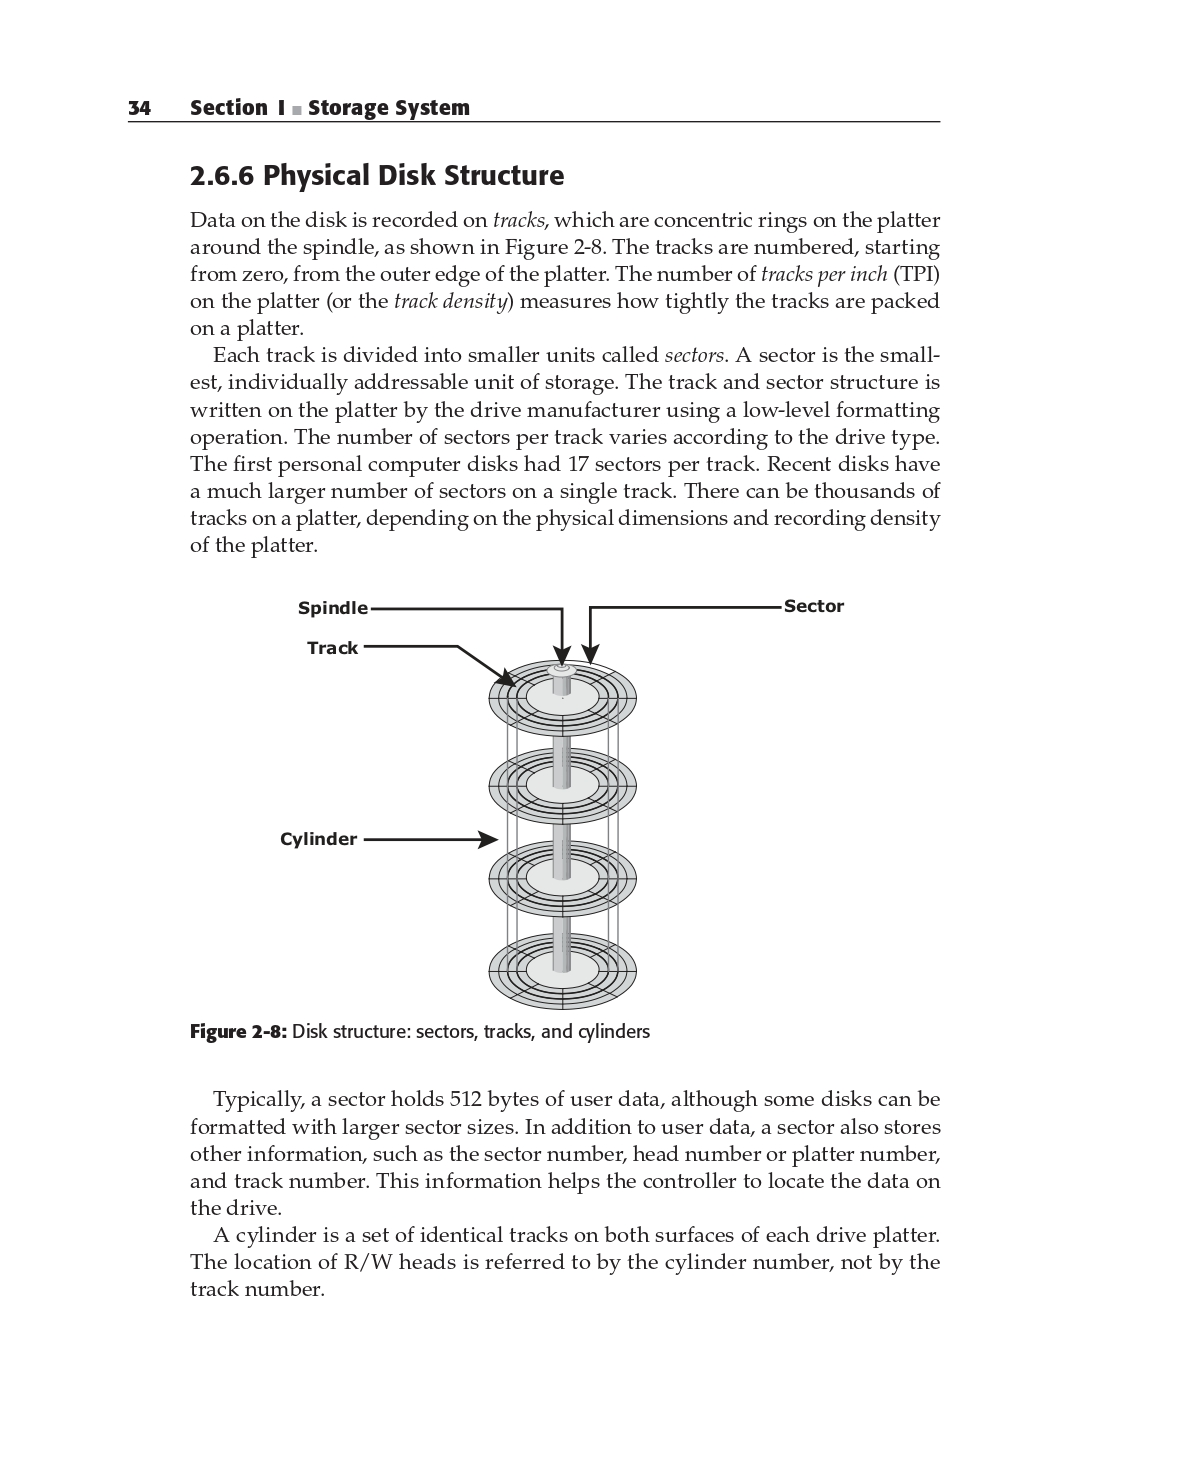Image: (269, 572, 879, 1017)
Paragraph: (178, 339, 949, 551), (181, 1071, 943, 1221), (172, 199, 937, 336), (181, 1229, 937, 1308), (176, 1005, 672, 1057), (166, 145, 590, 193), (126, 87, 476, 120)
